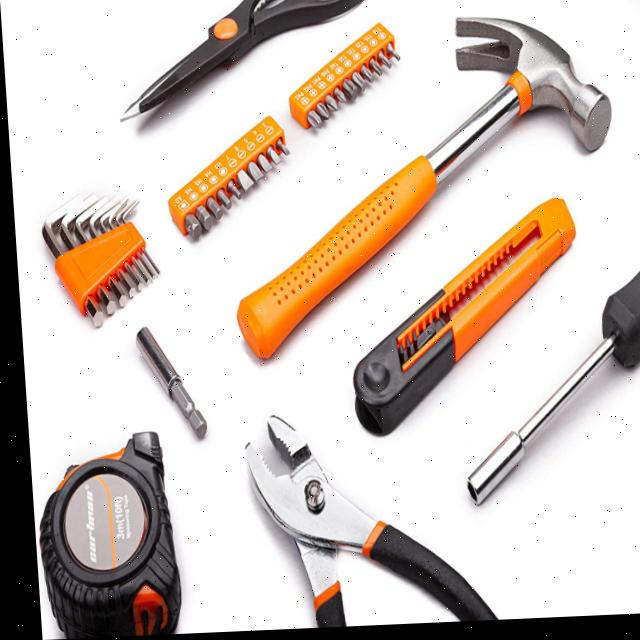Screwdriver: (460, 272, 640, 509)
